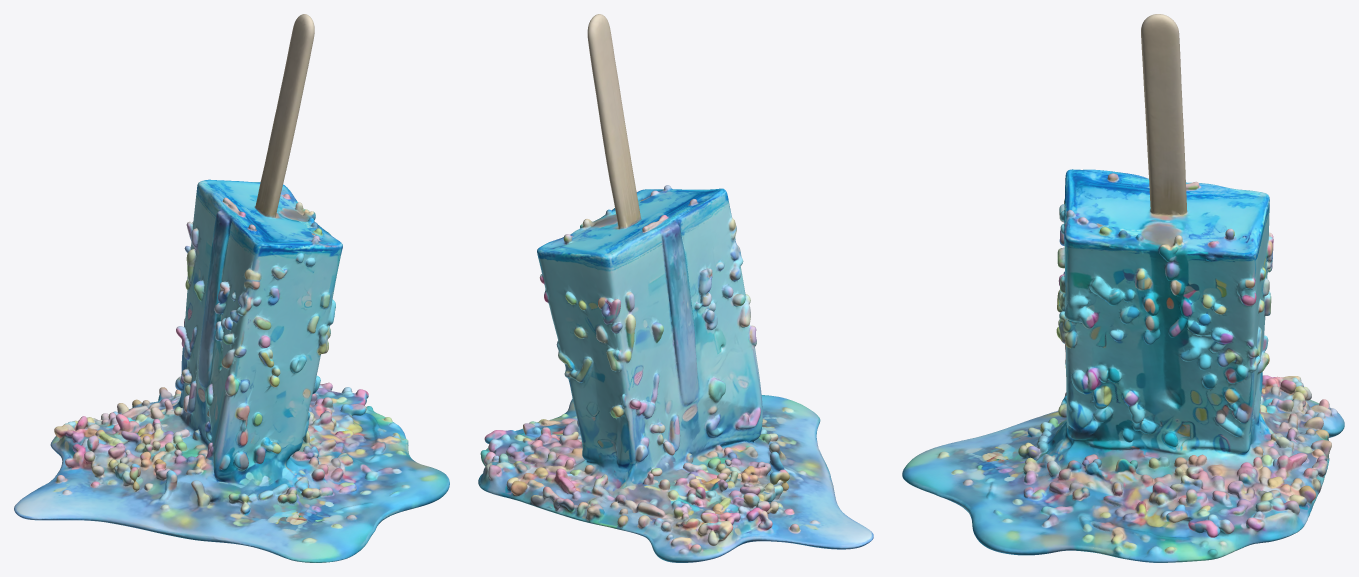
Rendered from iceb.glb.
The picture shows the model from 3 angles, left to right: view 1: azimuth 30°, elevation 25°; view 2: azimuth 150°, elevation 25°; view 3: azimuth 270°, elevation 25°; orthographic projection. The views are drawn at different scales.
Parts seen in each view (by area): view 1: tripo_node_acf82f63-52be-41e9-a342-5f466a46fee3; view 2: tripo_node_acf82f63-52be-41e9-a342-5f466a46fee3; view 3: tripo_node_acf82f63-52be-41e9-a342-5f466a46fee3.
Part boxes in pixels (left/top/right/bottom): tripo_node_acf82f63-52be-41e9-a342-5f466a46fee3: left=14, top=14, right=449, bottom=562; tripo_node_acf82f63-52be-41e9-a342-5f466a46fee3: left=478, top=14, right=873, bottom=562; tripo_node_acf82f63-52be-41e9-a342-5f466a46fee3: left=902, top=14, right=1344, bottom=562.
Bounding box in the file's own units: 0.8694 × 1 × 0.7879.
Materials: 1 (1 with a texture image).
